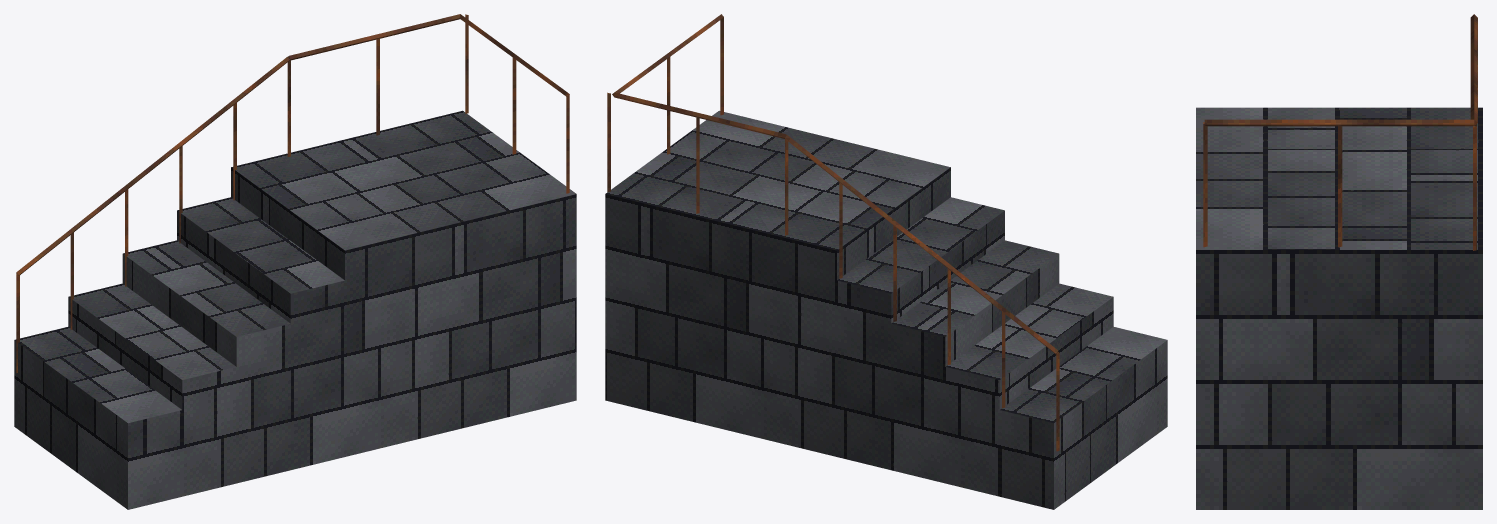
The model's file is escalera_muelle.obj.
3 views of the same model, side by side, from view 1: azimuth 30°, elevation 25°; view 2: azimuth 150°, elevation 25°; view 3: azimuth 270°, elevation 25° (orthographic). The views are drawn at different scales.
Parts seen in each view (by area): view 1: escalera_muelle; view 2: escalera_muelle; view 3: escalera_muelle.
Part boxes in pixels (box(x1,y1,x2,y2)): escalera_muelle: box(14, 14, 576, 509); escalera_muelle: box(605, 14, 1167, 509); escalera_muelle: box(1196, 14, 1482, 509).
Size of the model in its own units: 4.58 by 2.98 by 2.
Materials: 2 (2 with a texture image).
